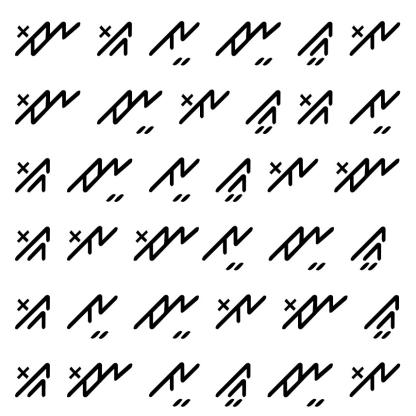ah: (146, 17, 204, 73), (145, 151, 201, 206), (344, 84, 401, 138), (63, 290, 121, 342), (147, 355, 203, 408), (202, 223, 254, 273)
nggah: (293, 14, 337, 69), (244, 82, 286, 136), (345, 222, 390, 272), (209, 156, 254, 205), (210, 359, 252, 410), (362, 291, 403, 340)
nggo: (10, 212, 56, 264), (10, 150, 54, 199), (10, 283, 52, 334), (13, 354, 54, 402), (92, 15, 135, 58), (294, 87, 336, 131)
njah: (266, 216, 339, 274), (213, 12, 283, 69), (62, 153, 134, 207), (132, 291, 204, 345), (265, 352, 334, 408), (92, 82, 164, 135)
njo: (331, 146, 401, 202), (277, 285, 350, 338), (60, 350, 135, 401), (8, 80, 86, 128), (6, 15, 80, 64), (130, 218, 198, 267)
o: (346, 7, 402, 57), (59, 222, 121, 267), (346, 354, 403, 401), (266, 150, 320, 198), (213, 289, 269, 334), (178, 82, 232, 127)
